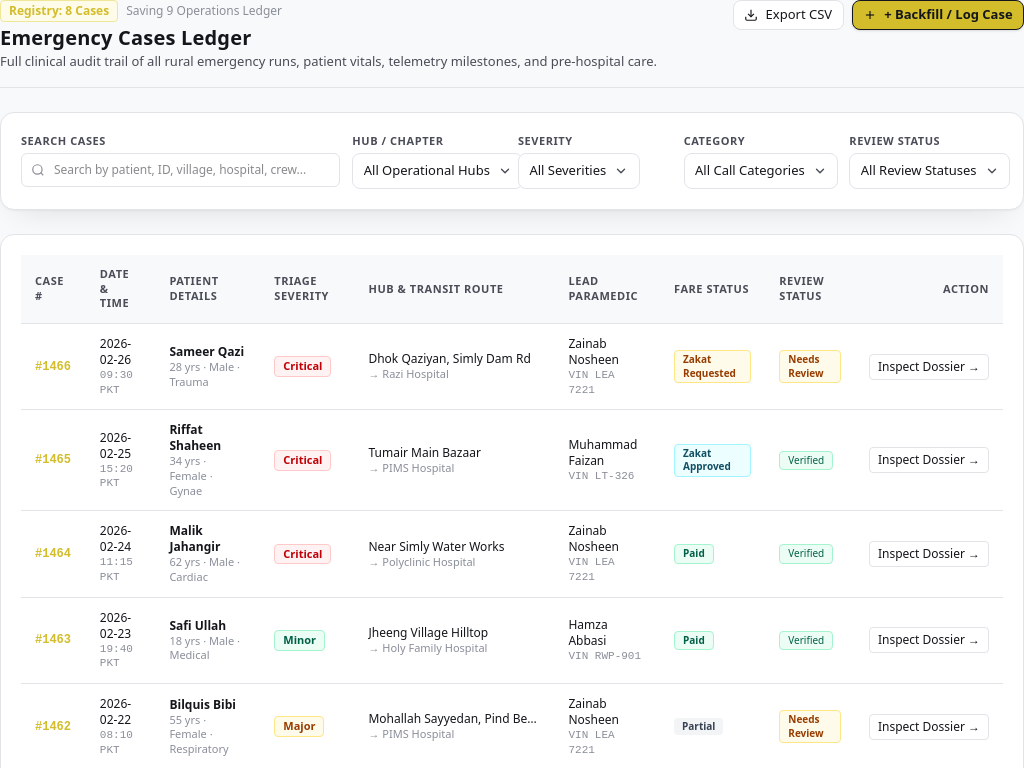
Test: Saving 9 Maseeha Admin Portal Prototype › renders Emergency Cases Ledger, searches cases, and opens case dossier drawer
Expected: the heading "Emergency Cases Ledger" is shown, [0,24,252,51]
Expected: the text "Sameer Qazi" is shown, [169,344,246,360]
Step 1. Click the button "Inspect Dossier →" in the row of "1466" → (929, 367), box [869,354,989,380]
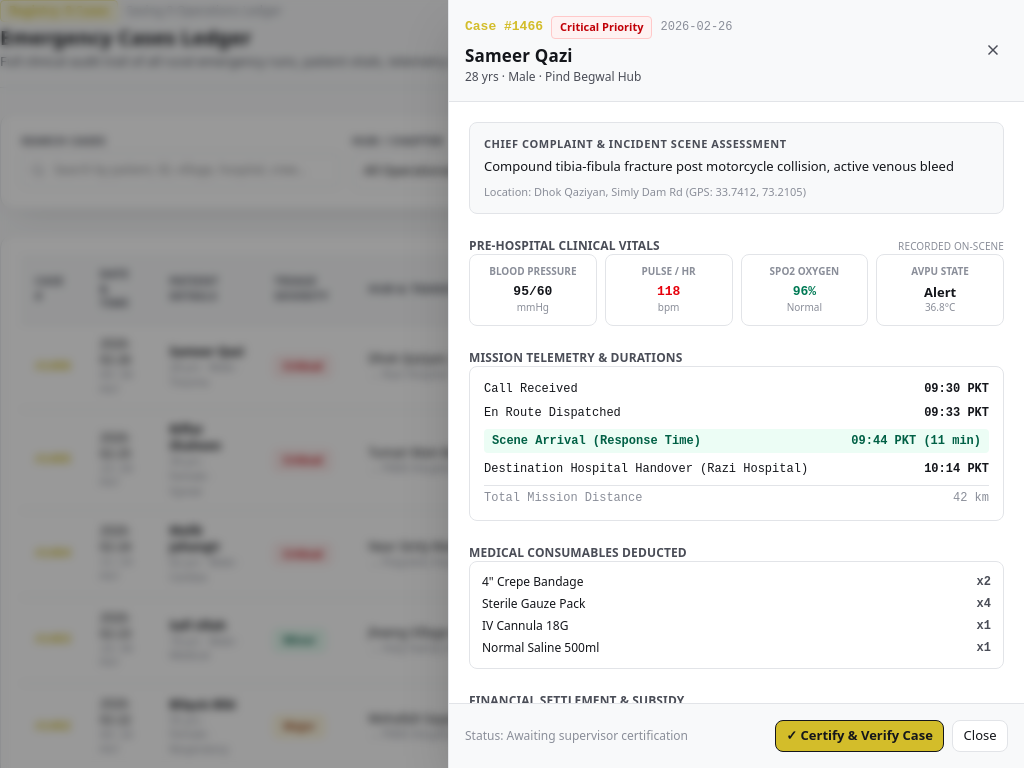
Expected: the text "Chief Complaint & Incident Scene Assessment" is shown, [484,136,787,151]
Expected: the text "Pre-Hospital Clinical Vitals" is shown, [469,238,660,254]
Expected: the heading "Mission Telemetry & Durations" is shown, [469,349,682,366]
